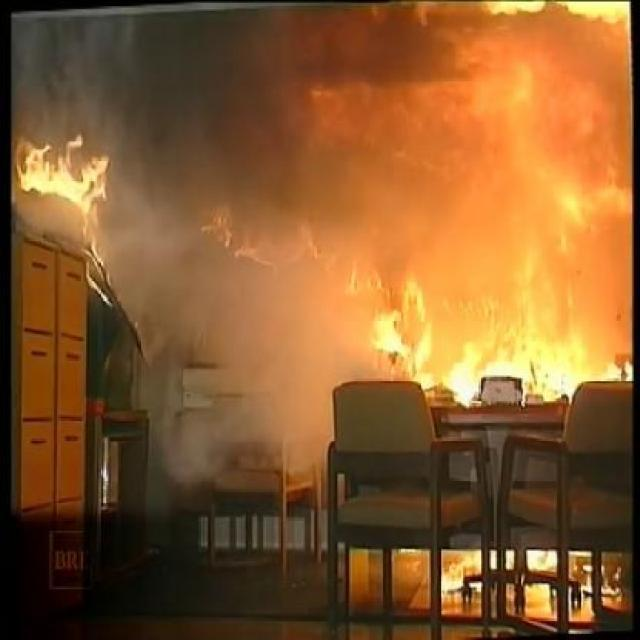fire: (355, 211, 600, 377), (22, 141, 136, 217)
smoke: (144, 241, 301, 427), (19, 21, 202, 134)
